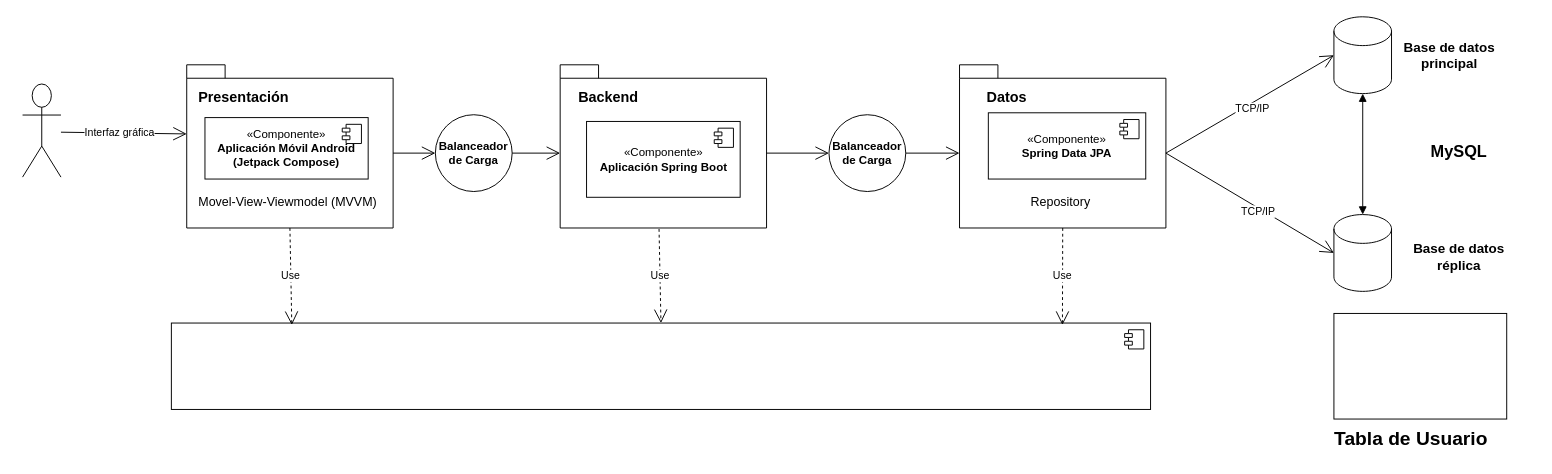
Image size: 1552x474. Some labels were removed from this diagram. The shapes that lost their labels are listed below. From the top down, each one's centre as x and y in pixels, then its label:
At pixel 41 130: "Usuario".
At pixel 660 365: "«Componente» Monitor y Logs".
At pixel 1420 365: "Usuario PK id: Integer FK1 email: String contraseña: String".
